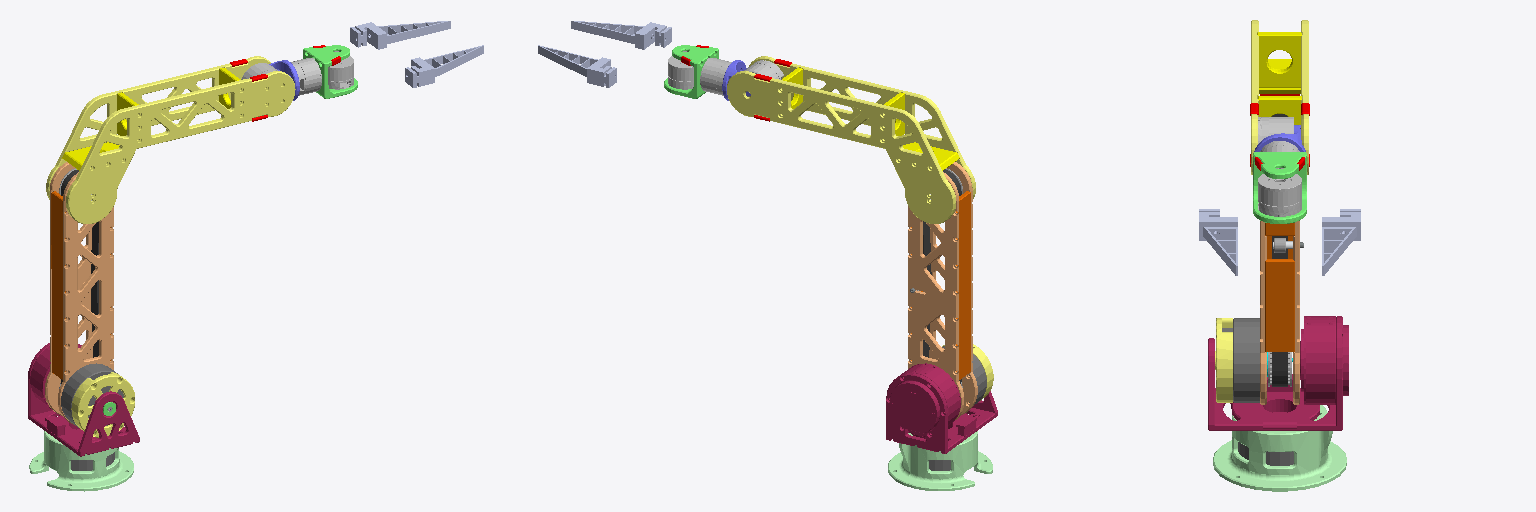
URDF robot description (jinu_manipulator):
<?xml version="1.0" ?>
<!-- =================================================================================== -->
<!-- |    This document was autogenerated by xacro from jinu_manipulator.urdf.xacro    | -->
<!-- |    EDITING THIS FILE BY HAND IS NOT RECOMMENDED                                 | -->
<!-- =================================================================================== -->
<!-- Jinu_Manipulator Chain -->
<robot name="jinu_manipulator">
  <!-- Link 1 -->
  <link name="link1">
    <visual>
      <origin rpy="0 0 0" xyz="0 0 0"/>
      <geometry>
        <mesh filename="package://jinu_manipulator_description/meshes/collada/base_link.dae"/>
      </geometry>
      <material name="grey"/>
    </visual>
    <collision>
      <origin rpy="0 0 0" xyz="0 0 0"/>
      <geometry>
        <mesh filename="package://jinu_manipulator_description/meshes/collada/base_link.dae"/>
      </geometry>
    </collision>
    <inertial>
      <origin rpy="0 0 0" xyz="0.00033638 0.000198 0.027277"/>
      <mass value="0.52654"/>
      <inertia ixx="0.0002675" ixy="-2.0087E-06" ixz="2.9573E-06" iyy="0.00026005" iyz="-4.6189E-07" izz="0.00041434"/>
    </inertial>
  </link>
  <!-- Joint 1 -->
  <joint name="joint1" type="revolute">
    <parent link="link1"/>
    <child link="link2"/>
    <origin rpy="0 0 0" xyz="0 0 0"/>
    <axis xyz="0 0 1"/>
    <limit effort="1" lower="-3.141592653589793" upper="3.141592653589793" velocity="4.8"/>
  </joint>
  <!--  Link 2 -->
  <link name="link2">
    <visual>
      <origin rpy="0 0 0" xyz="0 0 0"/>
      <geometry>
        <mesh filename="package://jinu_manipulator_description/meshes/collada/shoulder_link.dae"/>
      </geometry>
      <material name="">
        <color rgba="0.7 0.2 0.4 1"/>
      </material>
    </visual>
    <collision>
      <origin rpy="0 0 0" xyz="0 0 0"/>
      <geometry>
        <mesh filename="package://jinu_manipulator_description/meshes/collada/shoulder_link.dae"/>
      </geometry>
    </collision>
    <inertial>
      <origin rpy="0 0 0" xyz="-0.00015946 0.02935 0.094506"/>
      <mass value="0.52932"/>
      <inertia ixx="0.000257" ixy="-5.943E-07" ixz="-1.8105E-07" iyy="0.00038939" iyz="-1.5019E-06" izz="0.00029988"/>
    </inertial>
  </link>
  <!--  Joint 2 -->
  <joint name="joint2" type="revolute">
    <parent link="link2"/>
    <child link="link3"/>
    <origin rpy="0 1.57 0" xyz="0.0 0.0 0.101"/>
    <axis xyz="0 1 0"/>
    <limit effort="1" lower="-1.5707963267948966" upper="1.5707963267948966" velocity="4.8"/>
  </joint>
  <!--  Link 3 -->
  <link name="link3">
    <visual>
      <origin rpy="0 0 0" xyz="0 0 0"/>
      <geometry>
        <mesh filename="package://jinu_manipulator_description/meshes/collada/arm_link.dae"/>
      </geometry>
      <material name="grey"/>
    </visual>
    <collision>
      <origin rpy="0 0 0" xyz="0 0 0"/>
      <geometry>
        <mesh filename="package://jinu_manipulator_description/meshes/collada/arm_link.dae"/>
      </geometry>
    </collision>
    <inertial>
      <origin rpy="0 0 0" xyz="-0.043569 -0.018054 0.00023288"/>
      <mass value="0.67459"/>
      <inertia ixx="0.00024014" ixy="-1.0253E-06" ixz="4.9927E-07" iyy="0.0018727" iyz="1.6438E-08" izz="0.0017182"/>
    </inertial>
  </link>
  <!--  Joint 3 -->
  <joint name="joint3" type="revolute">
    <parent link="link3"/>
    <child link="link4"/>
    <origin rpy="0 -1.57 0" xyz="-0.2495 0 0"/>
    <axis xyz="0 1 0"/>
    <limit effort="1" lower="-3.141592653589793" upper="0" velocity="4.8"/>
  </joint>
  <!--  Link 4 -->
  <link name="link4">
    <visual>
      <origin rpy="0 0 0" xyz="0 0 0"/>
      <geometry>
        <mesh filename="package://jinu_manipulator_description/meshes/collada/elbow_link.dae"/>
      </geometry>
      <material name="grey"/>
    </visual>
    <collision>
      <origin rpy="0 0 0" xyz="0 0 0"/>
      <geometry>
        <mesh filename="package://jinu_manipulator_description/meshes/collada/elbow_link.dae"/>
      </geometry>
    </collision>
    <inertial>
      <origin rpy="0 0 0" xyz="0.13512 -0.0014811 0.051429"/>
      <mass value="0.43335"/>
      <inertia ixx="0.00022562" ixy="3.1358E-07" ixz="-0.00026116" iyy="0.0013039" iyz="4.3754E-08" izz="0.0011013"/>
    </inertial>
  </link>
  <!--  Joint 4 -->
  <joint name="joint4" type="revolute">
    <parent link="link4"/>
    <child link="link5"/>
    <origin rpy="0 0 0" xyz="0.2388 0 0.074"/>
    <axis xyz="0 1 0"/>
    <limit effort="1" lower="-1.790707812546182" upper="1.790707812546182" velocity="4.8"/>
  </joint>
  <!--  Link 5 -->
  <link name="link5">
    <visual>
      <origin rpy="0 0 0" xyz="0 0 0"/>
      <geometry>
        <mesh filename="package://jinu_manipulator_description/meshes/collada/forearm_link.dae"/>
      </geometry>
      <material name="grey"/>
    </visual>
    <collision>
      <origin rpy="0 0 0" xyz="0 0 0"/>
      <geometry>
        <mesh filename="package://jinu_manipulator_description/meshes/collada/forearm_link.dae"/>
      </geometry>
    </collision>
    <inertial>
      <origin rpy="0 0 0" xyz="0.046587 0.00093527 4.9083E-06"/>
      <mass value="0.13384"/>
      <inertia ixx="3.6374E-05" ixy="1.1852E-06" ixz="4.7596E-10" iyy="2.2671E-05" iyz="-2.5504E-07" izz="2.207E-05"/>
    </inertial>
  </link>
  <!--  Joint 5 -->
  <joint name="joint5" type="revolute">
    <parent link="link5"/>
    <child link="link6"/>
    <origin rpy="0 0 0" xyz=" 0 0 0"/>
    <axis xyz="1 0 0"/>
    <limit effort="1" lower="-3.141592653589793" upper="3.141592653589793" velocity="4.8"/>
  </joint>
  <!--  Link 6 -->
  <link name="link6">
    <visual>
      <origin rpy="0 0 0" xyz="0 0 0"/>
      <geometry>
        <mesh filename="package://jinu_manipulator_description/meshes/collada/wrist_link.dae"/>
      </geometry>
      <material name="grey"/>
    </visual>
    <collision>
      <origin rpy="0 0 0" xyz="0 0 0"/>
      <geometry>
        <mesh filename="package://jinu_manipulator_description/meshes/collada/wrist_link.dae"/>
      </geometry>
    </collision>
    <inertial>
      <origin  rpy="0 0 0" xyz="0.093798 0.00012709 -0.0035622"/>
      <mass    value="0.11491" />
      <inertia ixx="1.8999E-05" ixy="2.1477E-07" ixz="1.819E-06"
               iyy="2.0277E-05" iyz="1.0553E-08"
               izz="3.2623E-05" />
    </inertial>
  </link>
  <!--  Joint 6 -->
  <joint name="joint6" type="revolute">
    <parent link="link6"/>
    <child link="link7"/>
    <origin rpy="0 0 0" xyz="0.0965 0 0"/>
    <axis xyz="0 0 1"/>
    <limit effort="1" lower="-3.141592653589793" upper="3.141592653589793" velocity="4.8"/>
  </joint>
  <!--  Link 7 -->
  <link name="link7">
    <visual>
      <origin rpy="0 0 0" xyz="0 0 0"/>
      <geometry>
        <mesh filename="package://jinu_manipulator_description/meshes/collada/endeff_link.dae"/>
      </geometry>
      <material name="grey"/>
    </visual>
    <collision>
      <origin rpy="0 0 0" xyz="0 0 0"/>
      <geometry>
        <mesh filename="package://jinu_manipulator_description/meshes/collada/endeff_link.dae"/>
      </geometry>
    </collision>
    <inertial>
      <origin rpy="0 0 0" xyz="0.048577 0.0005182 0.022163"/>
      <mass value="0.12395"/>
      <inertia ixx="7.2028E-05" ixy="4.5222E-08" ixz="8.2578E-07" iyy="2.6906E-05" iyz="1.8737E-07" izz="6.267E-05"/>
    </inertial>
  </link>
  <!-- Gripper Joint-->
  <joint name="gripper" type="prismatic">
    <origin rpy="0 0 0" xyz="0.0655 -0.053826 0"/>
    <parent link="link7"/>
    <child link="gripper_link"/>
    <axis xyz="0 1 0"/>
    <limit effort="0" lower="0" upper="0" velocity="0"/>
  </joint>
  <!-- Gripper link-->
  <link name="gripper_link">
    <inertial>
      <origin rpy="0 0 0" xyz="0.022425 -0.0013661 -0.00010039"/>
      <mass value="0.016158"/>
      <inertia ixx="1.7408E-06" ixy="-1.0523E-06" ixz="-1.1613E-10" iyy="6.2034E-06" iyz="-7.1721E-12" izz="7.2381E-06"/>
    </inertial>
    <visual>
      <origin rpy="0 0 0" xyz="0 0 0"/>
      <geometry>
        <mesh filename="package://jinu_manipulator_description/meshes/stl/gripper_link.stl"/>
      </geometry>
      <material name="">
        <color rgba="0.79216 0.81961 0.93333 1"/>
      </material>
    </visual>
    <collision>
      <origin rpy="0 0 0" xyz="0 0 0"/>
      <geometry>
        <mesh filename="package://jinu_manipulator_description/meshes/stl/gripper_link.stl"/>
      </geometry>
    </collision>
  </link>
  <!-- Gripper Joint sub-->
  <joint name="gripper_sub" type="prismatic">
    <origin rpy="0 0 0" xyz="0.0655 0.053826 0"/>
    <parent link="link7"/>
    <child link="gripper_link_sub"/>
    <axis xyz="0 -1 0"/>
    <limit effort="0" lower="0" upper="0" velocity="0"/>
  </joint>
  <!-- Gripper link sub-->
  <link name="gripper_link_sub">
    <inertial>
      <origin rpy="0 0 0" xyz="0.022425 0.0013661 -0.0001004"/>
      <mass value="0.016158"/>
      <inertia ixx="1.7408E-06" ixy="1.0523E-06" ixz="-1.1695E-10" iyy="6.2034E-06" iyz="6.5231E-12" izz="7.2381E-06"/>
    </inertial>
    <visual>
      <origin rpy="0 0 0" xyz="0 0 0"/>
      <geometry>
        <mesh filename="package://jinu_manipulator_description/meshes/stl/gripper_sub_link.stl"/>
      </geometry>
      <material name="">
        <color rgba="0.79216 0.81961 0.93333 1"/>
      </material>
    </visual>
    <collision>
      <origin rpy="0 0 0" xyz="0 0 0"/>
      <geometry>
        <mesh filename="package://jinu_manipulator_description/meshes/stl/gripper_sub_link.stl"/>
      </geometry>
    </collision>
  </link>
  <!-- Realsense Camera Joint Position -->
  <!--   <joint name="camera_joint" type="fixed">
    <axis xyz="0 1 0" />
    <origin xyz="0.070 0.032 0.052" rpy="0 0 0"/> 
    <parent link="link5"/>
    <child link="camera_link"/>
  </joint>

  <link name="camera_link"/> -->
</robot>

--- Render facts (derived) ---
Views: 3 orthographic renders of the robot side by side, from view 1: azimuth 30°, elevation 25°; view 2: azimuth 150°, elevation 25°; view 3: azimuth 270°, elevation 25°.
Robot: jinu_manipulator — 9 links, 8 joints (6 revolute, 2 prismatic); root link link1; default pose: every joint at zero.
Links seen in each view (by area): view 1: link4, link3, link2, link1, link6, gripper_link_sub, gripper_link, link5; view 2: link4, link3, link2, link1, link6, gripper_link, gripper_link_sub, link5; view 3: link3, link2, link1, link4, link6, gripper_link, gripper_link_sub, link5.
Link boxes in pixels (x1,y1,x2,y2): link4: (46, 56, 295, 223); link3: (45, 162, 134, 437); link2: (28, 343, 139, 456); link1: (29, 431, 133, 491); link6: (303, 45, 357, 98); gripper_link_sub: (350, 21, 450, 49); gripper_link: (405, 45, 483, 87); link5: (269, 58, 321, 100); link4: (727, 56, 975, 223); link3: (908, 162, 993, 419); link2: (886, 363, 997, 453); link1: (888, 431, 992, 490); link6: (664, 45, 718, 98); gripper_link: (571, 21, 671, 49); gripper_link_sub: (538, 45, 616, 87); link5: (700, 58, 750, 100); link3: (1215, 114, 1303, 404); link2: (1208, 316, 1348, 430); link1: (1213, 405, 1346, 491); link4: (1250, 20, 1309, 174); link6: (1253, 152, 1306, 223); gripper_link: (1199, 209, 1237, 275); gripper_link_sub: (1322, 209, 1360, 275); link5: (1254, 125, 1305, 151).
Bounding box of the posed robot: 0.5623 × 0.1444 × 0.4519 m (x, y, z).
8 mesh visuals loaded from 9 distinct referenced files (2 binary STL, 6 Collada DAE); not drawn: 1 (reference not matched to a file when rendering).
